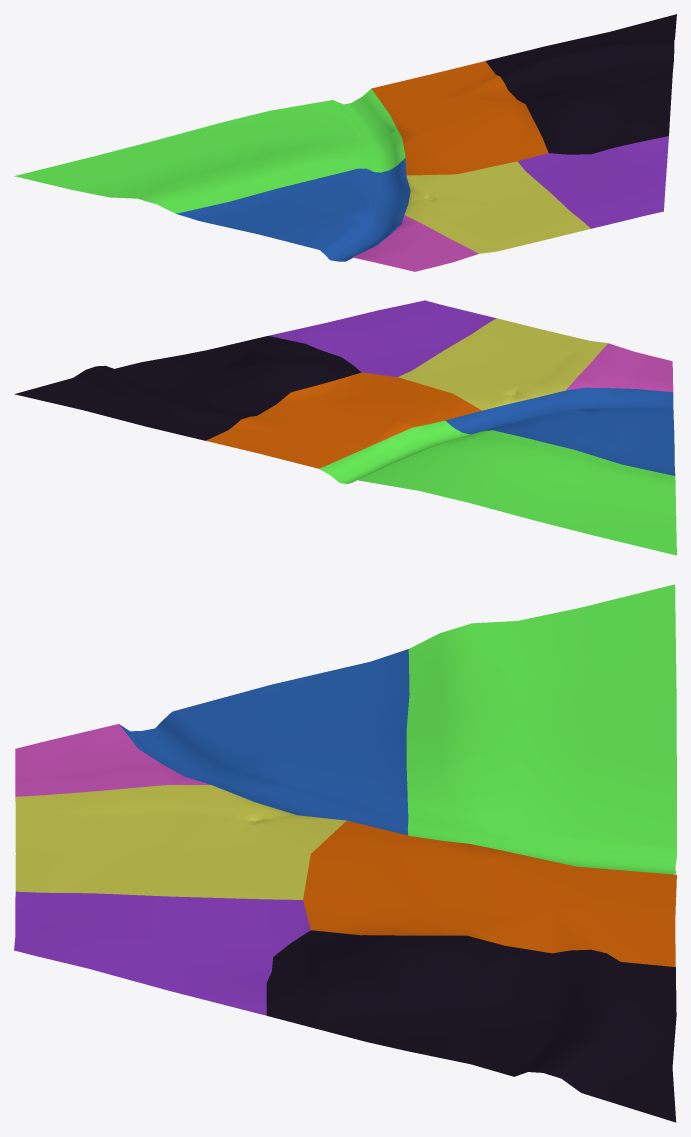
Rendered from land.fbx.
3 renders of one model, top to bottom at view 1: azimuth 30°, elevation 25°; view 2: azimuth 150°, elevation 25°; view 3: azimuth 270°, elevation 25°, orthographic. The views are drawn at different scales.
Visible parts, largest first — view 1: polySurface11, polySurface5, polySurface7, polySurface9, polySurface13, polySurface15, polySurface16; view 2: polySurface11, polySurface5, polySurface7, polySurface9, polySurface13, polySurface15, polySurface16; view 3: polySurface11, polySurface5, polySurface7, polySurface9, polySurface13, polySurface15, polySurface16.
Part boxes in pixels (left/top/right/bottom): polySurface11: left=14, top=88, right=405, bottom=213; polySurface5: left=486, top=14, right=676, bottom=154; polySurface7: left=371, top=61, right=548, bottom=175; polySurface9: left=176, top=158, right=410, bottom=261; polySurface13: left=404, top=161, right=590, bottom=253; polySurface15: left=517, top=136, right=668, bottom=228; polySurface16: left=352, top=215, right=478, bottom=271; polySurface11: left=319, top=420, right=676, bottom=555; polySurface5: left=14, top=336, right=361, bottom=440; polySurface7: left=206, top=372, right=481, bottom=468; polySurface9: left=445, top=387, right=675, bottom=475; polySurface13: left=398, top=318, right=607, bottom=410; polySurface15: left=268, top=300, right=496, bottom=376; polySurface16: left=566, top=343, right=673, bottom=392; polySurface11: left=406, top=584, right=676, bottom=874; polySurface5: left=266, top=930, right=676, bottom=1122; polySurface7: left=303, top=820, right=676, bottom=966; polySurface9: left=119, top=649, right=409, bottom=835; polySurface13: left=15, top=785, right=346, bottom=899; polySurface15: left=14, top=891, right=310, bottom=1015; polySurface16: left=15, top=724, right=210, bottom=796.
Size of the model in its own units: 11946 by 437 by 6217.
